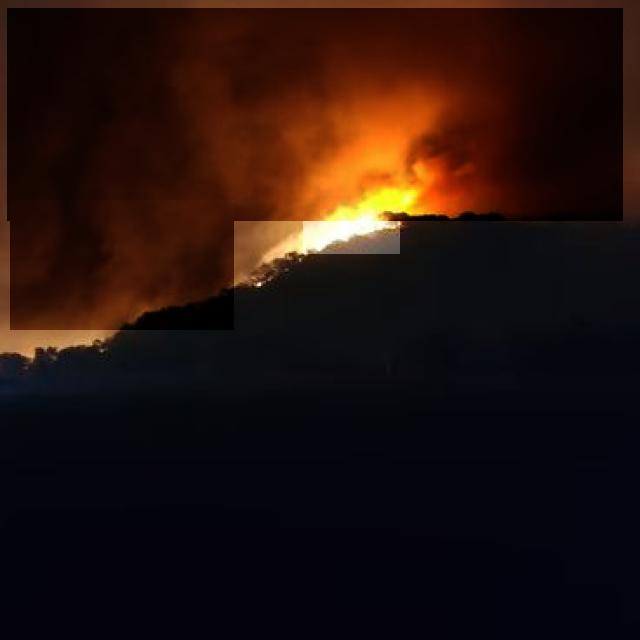Fire: (303, 203, 400, 254)
Smoke: (7, 8, 623, 221), (10, 200, 234, 330)
